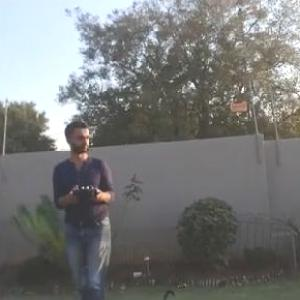follow: (48, 115, 118, 299)
